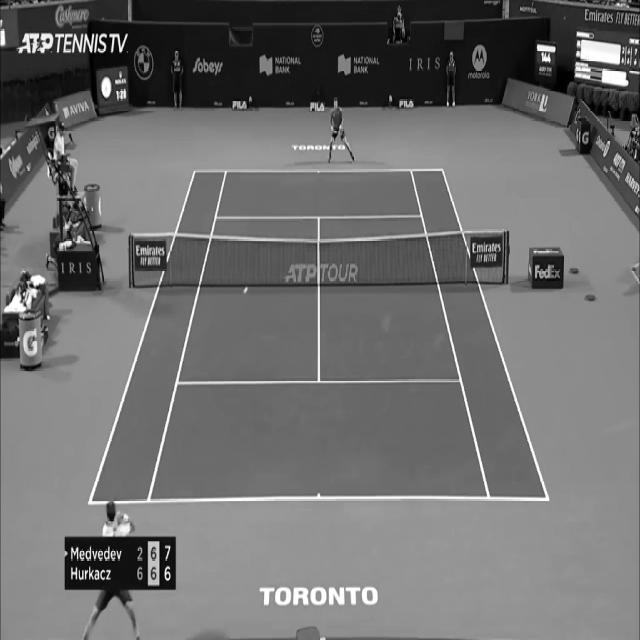tennis-court: (88, 169, 550, 504)
